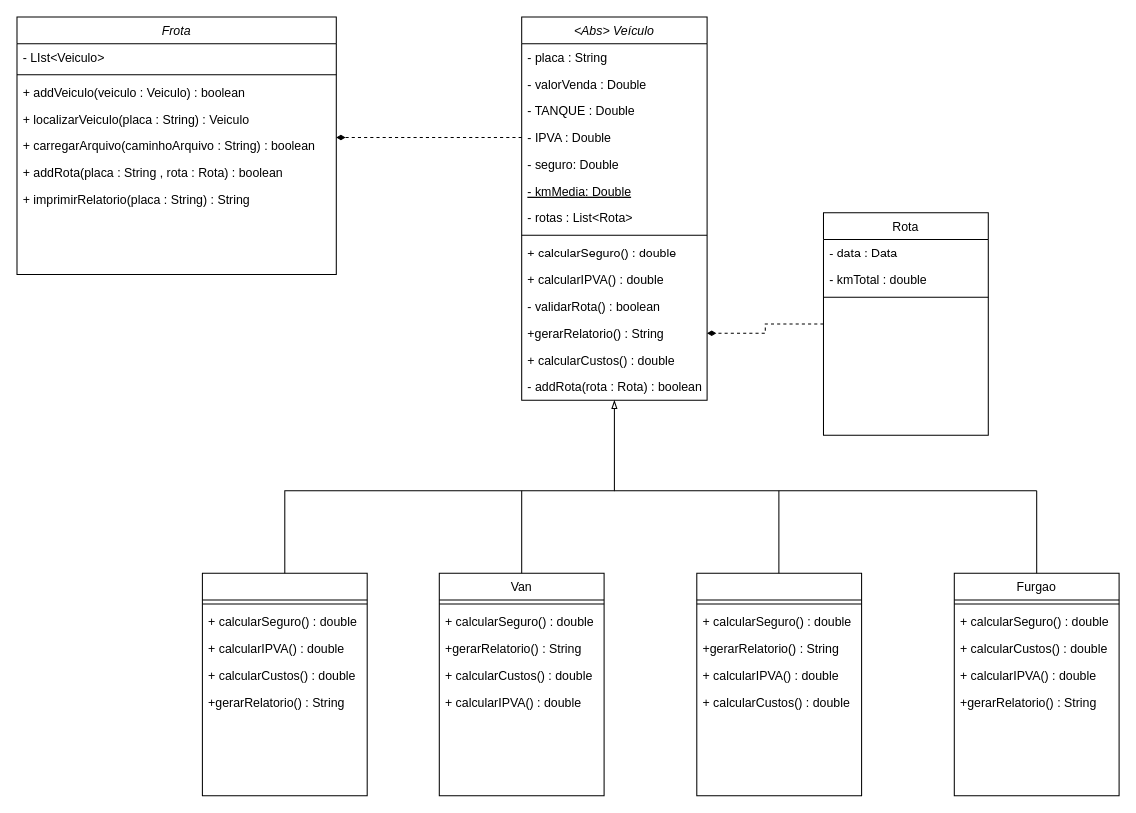
Some shapes in this 1136 by 813 pixel diagram are drawn without their labels. The box of each missing label's shape, as (x1, y1, x2, y2) in pixels:
Caminhao: (696, 572, 862, 796)
Carro: (201, 572, 367, 796)
